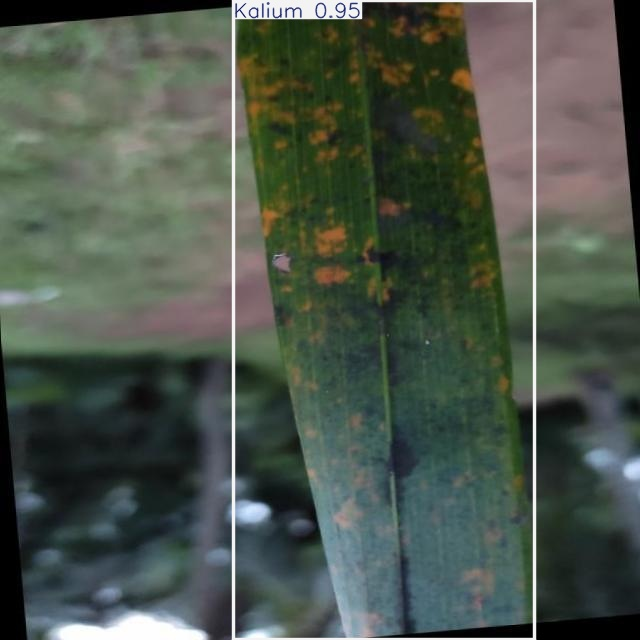Kalium: (233, 1, 534, 640)
